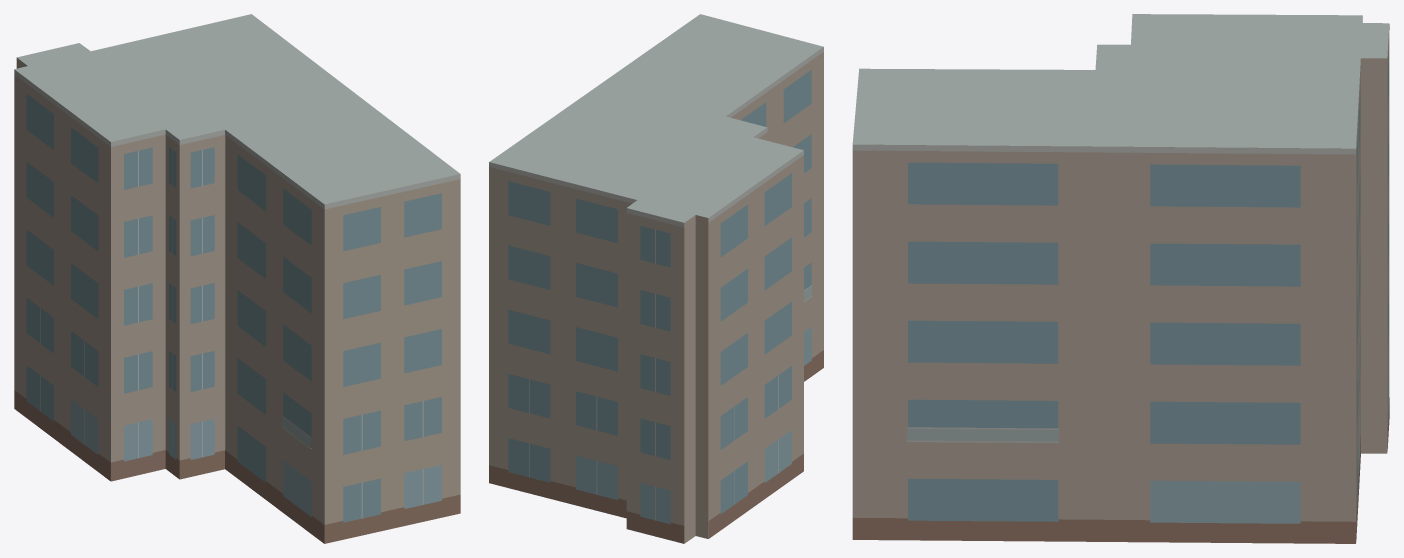
Rendered from survey-upis-33044411.glb.
3 renders of one model, left to right at view 1: azimuth 30°, elevation 25°; view 2: azimuth 150°, elevation 25°; view 3: azimuth 270°, elevation 25°, orthographic. The views are drawn at different scales.
Parts seen in each view (by area): view 1: survey-upis-33044411.tmp; view 2: survey-upis-33044411.tmp; view 3: survey-upis-33044411.tmp.
Part boxes in pixels (box(x1,y1,x2,y2)): survey-upis-33044411.tmp: box(14, 14, 460, 543); survey-upis-33044411.tmp: box(489, 14, 823, 543); survey-upis-33044411.tmp: box(852, 14, 1389, 543).
Bounding box in the file's own units: 11.91 × 16.3 × 20.07.
